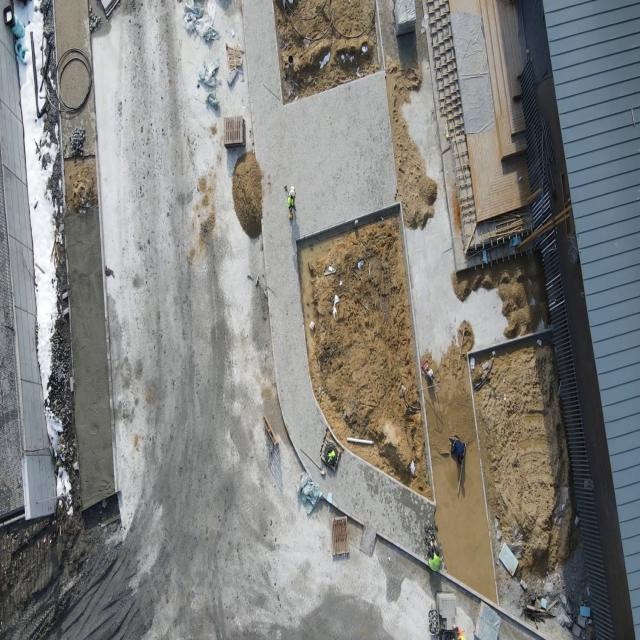p3rson: (449, 433, 466, 468), (427, 539, 440, 573), (286, 184, 296, 220), (452, 622, 466, 640)
